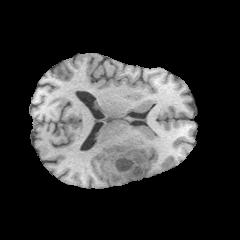glioma: (100, 144, 146, 184)
